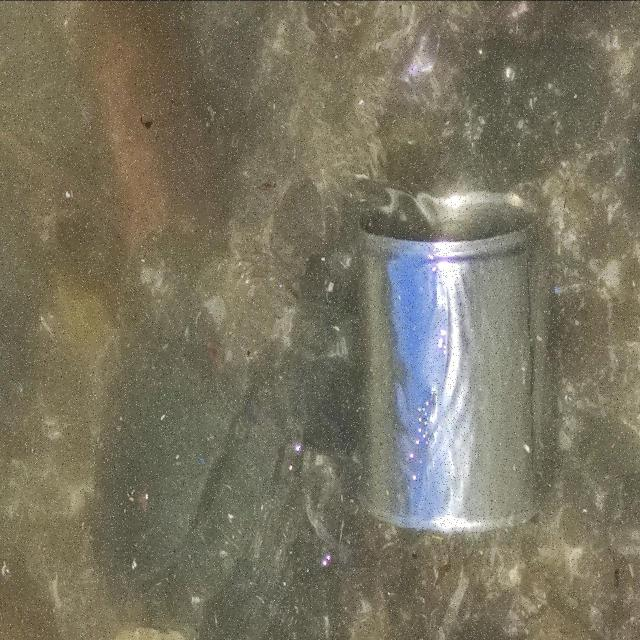metal_waste: (355, 191, 544, 541)
